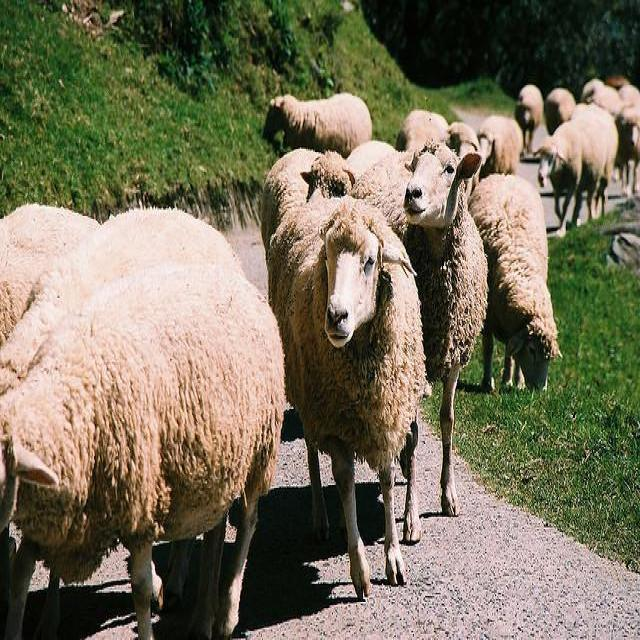Sheep: (0, 264, 289, 637), (266, 200, 430, 606), (353, 140, 489, 518), (1, 208, 243, 394), (472, 170, 561, 397), (533, 102, 618, 240), (0, 202, 101, 315), (258, 149, 355, 254), (262, 96, 372, 150), (479, 115, 523, 175)
